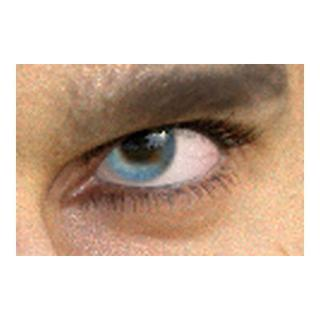pupil: (123, 129, 154, 161)
